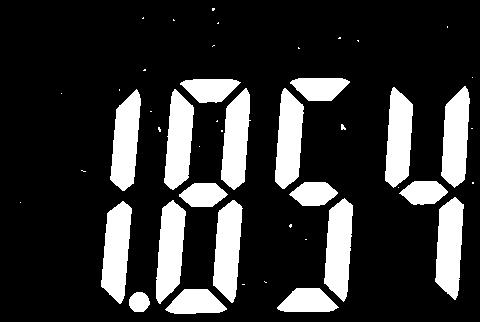1: (97, 85, 144, 302)
4: (382, 84, 475, 297)
5: (275, 77, 356, 314)
8: (154, 76, 255, 313)
dot: (127, 290, 153, 312)
